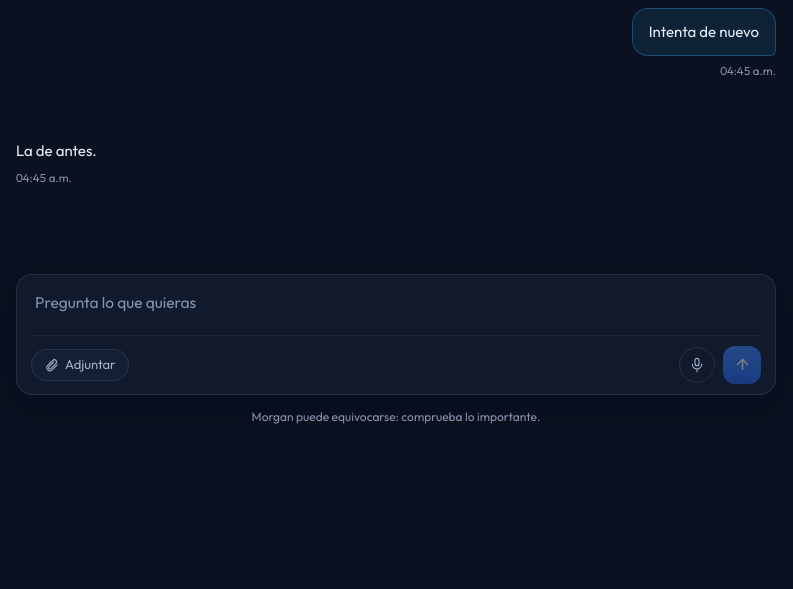
La conexión se corta a mitad del turno › una respuesta vieja a la misma pregunta no cuenta
The width and height of the screenshot is (793, 589).
Type "Intenta de nuevo" into the text box at (396, 312), box [31, 289, 761, 335]
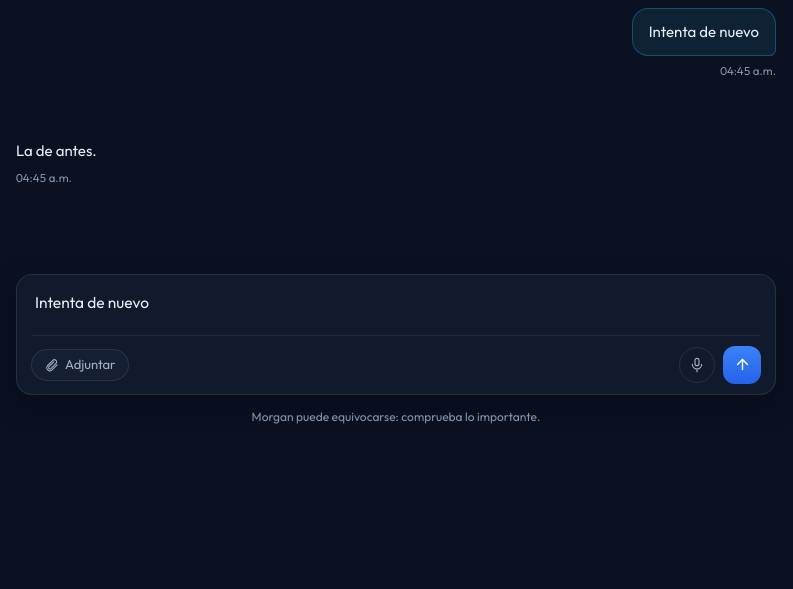
Press Enter in the text box, box [31, 289, 761, 335]
Wait 9000 ms
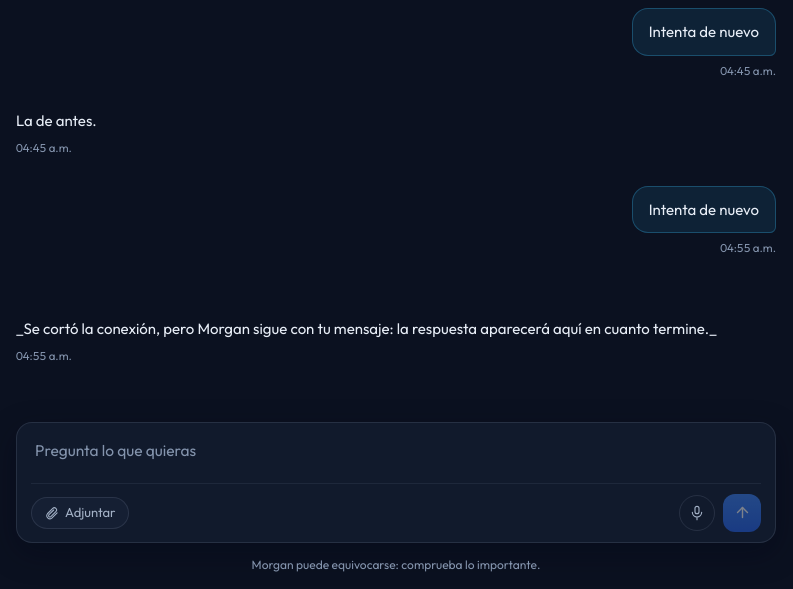
Expected: the text "Morgan sigue con tu mensaje" is shown, [16, 319, 717, 338]
